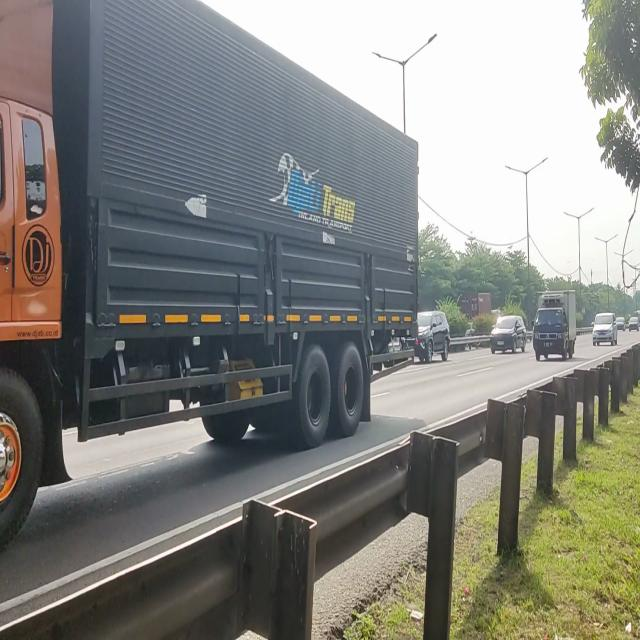Golongan I: (414, 306, 454, 370), (489, 312, 530, 359)
